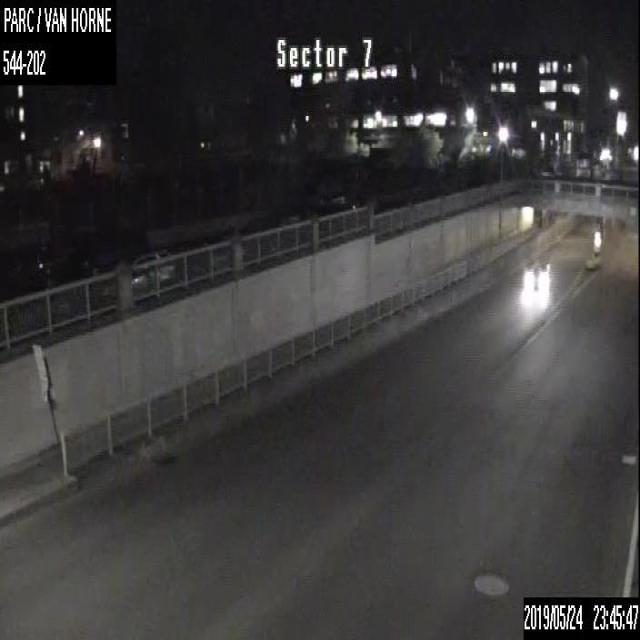vehicle: (92, 244, 175, 304), (525, 261, 552, 285)
